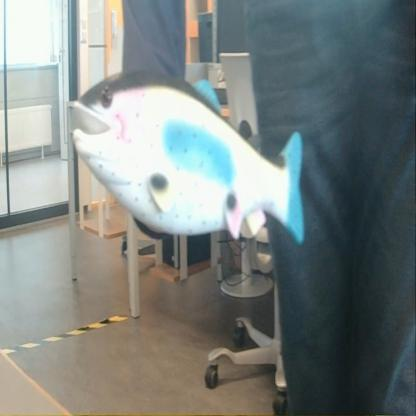rubberfish: (58, 60, 308, 248)
